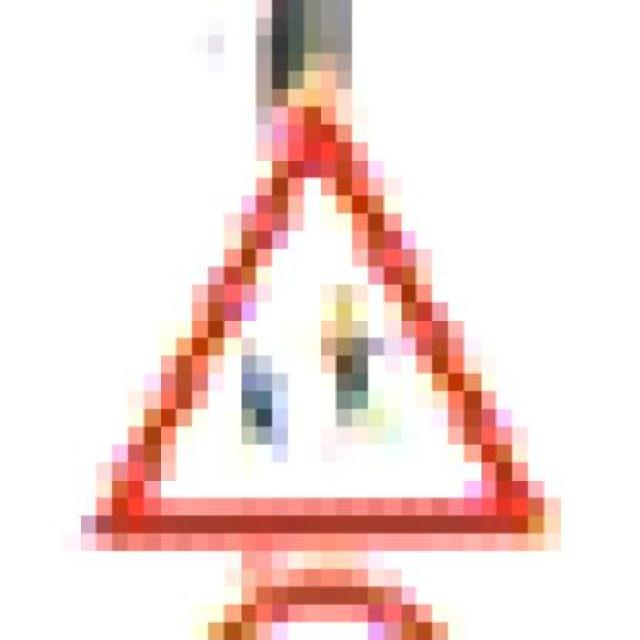Beware of children: (79, 71, 576, 551)
